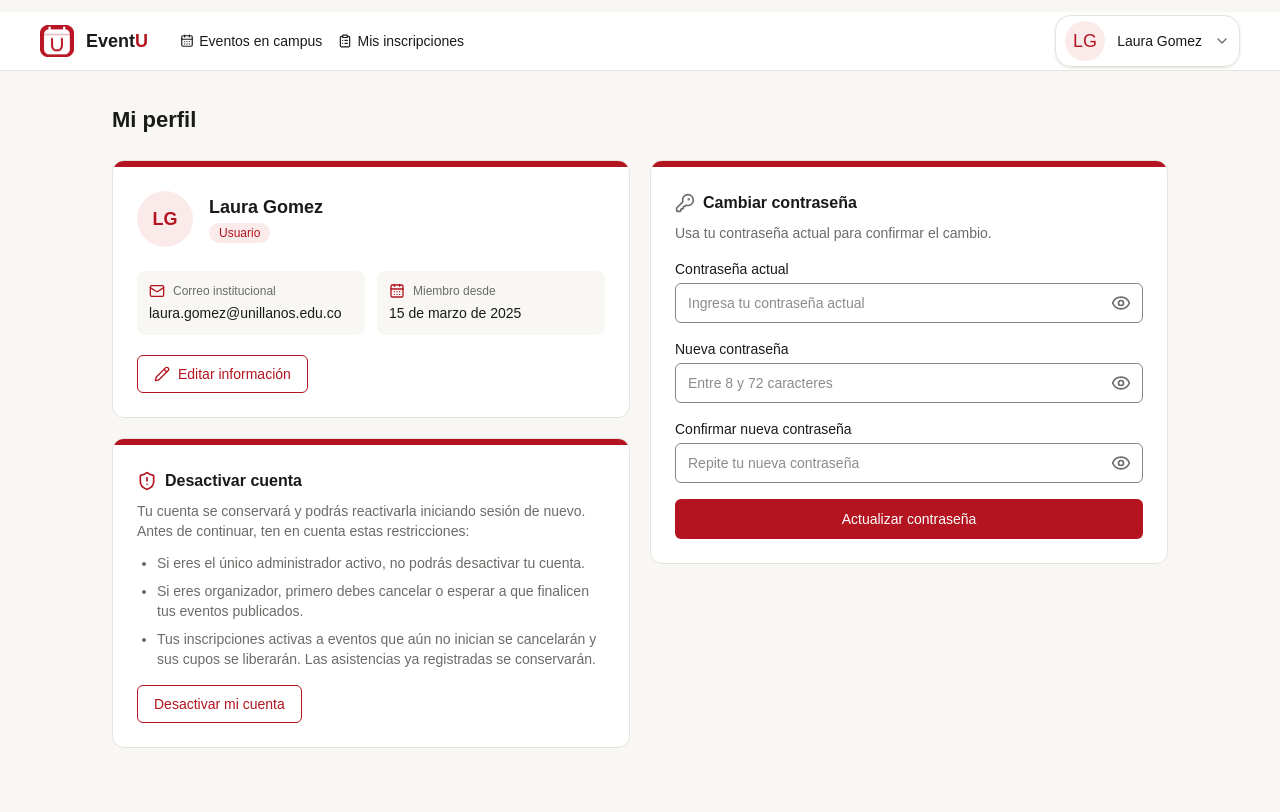
Scenario: Perfil › actualiza el nombre conservando el código institucional y sincroniza la sesión visible
This screenshot has width=1280, height=812.
Click the button "Editar información": click(222, 374) [137,355,308,393]
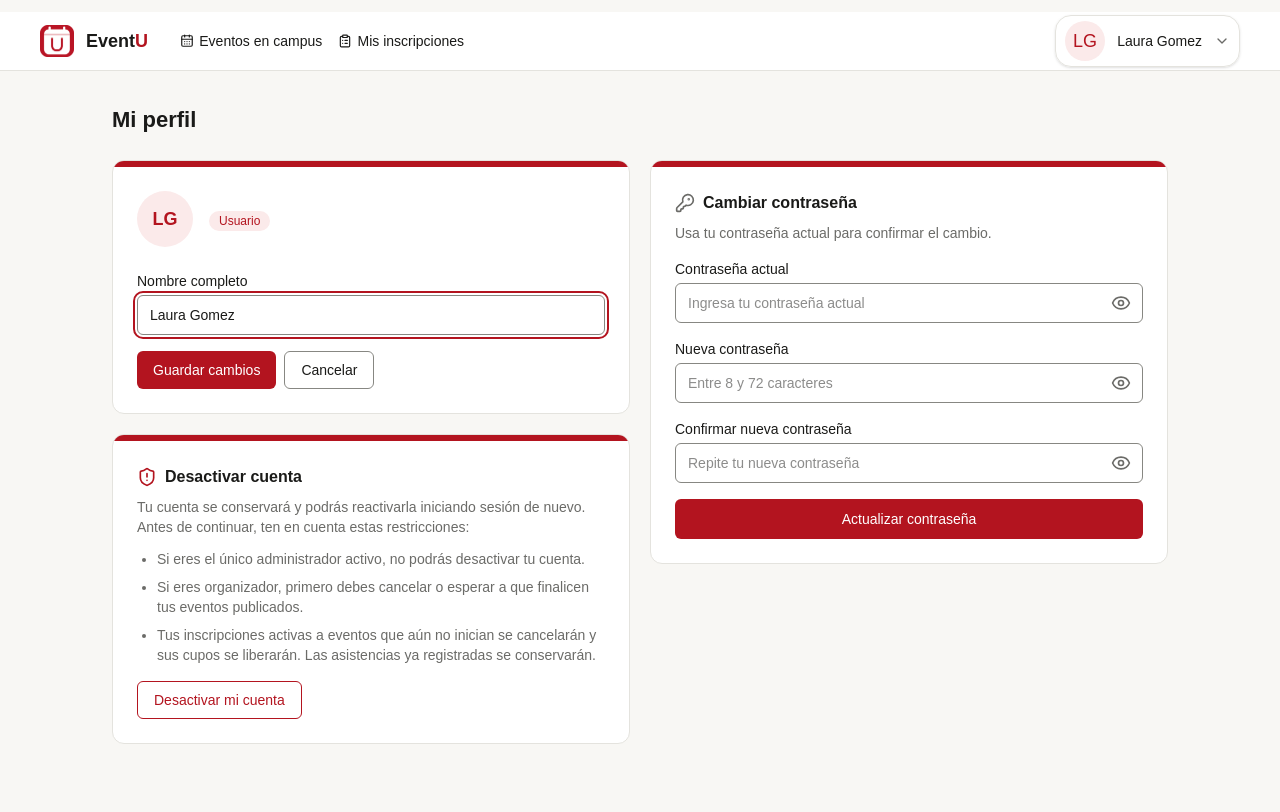
Replace the text in the field labelled "Nombre completo" with "  Laura Gomez Ruiz  ": (371, 315) [137,295,605,335]
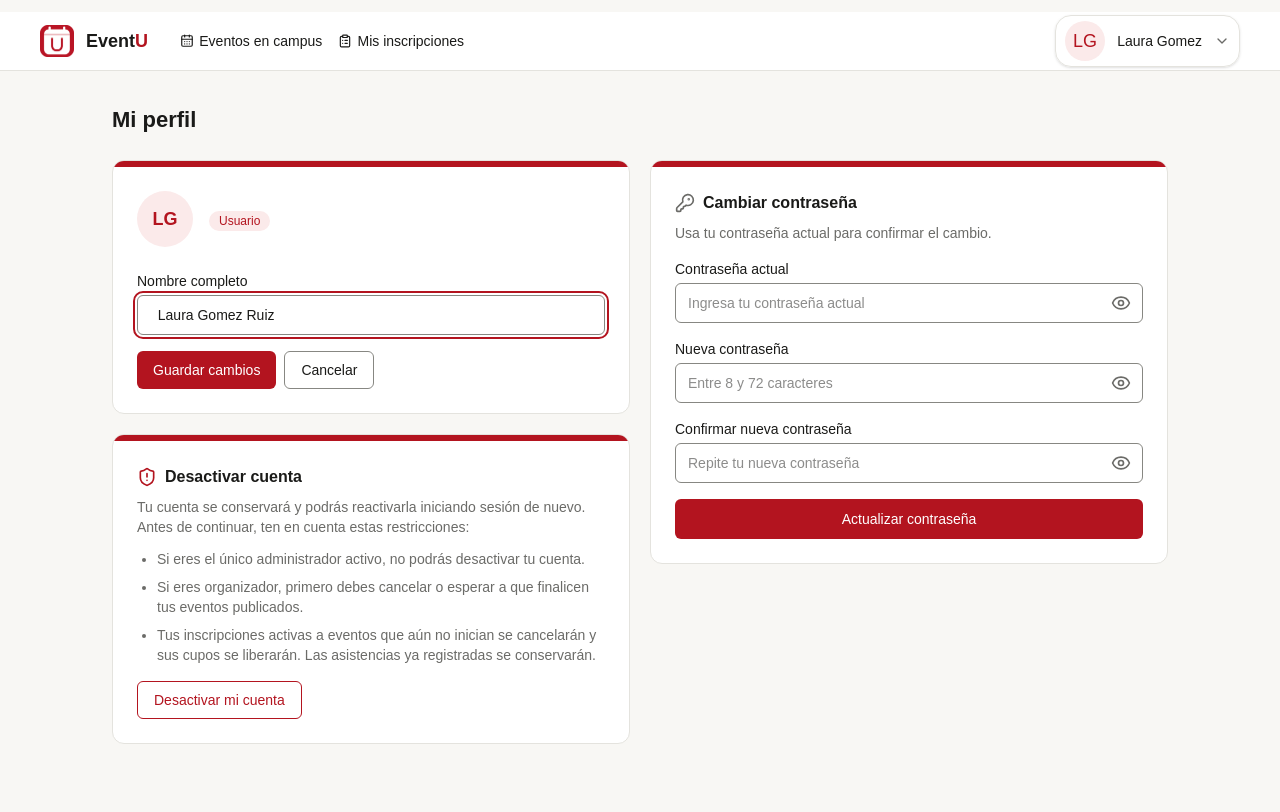
Click the button "Guardar cambios": click(207, 370) [137,351,276,389]
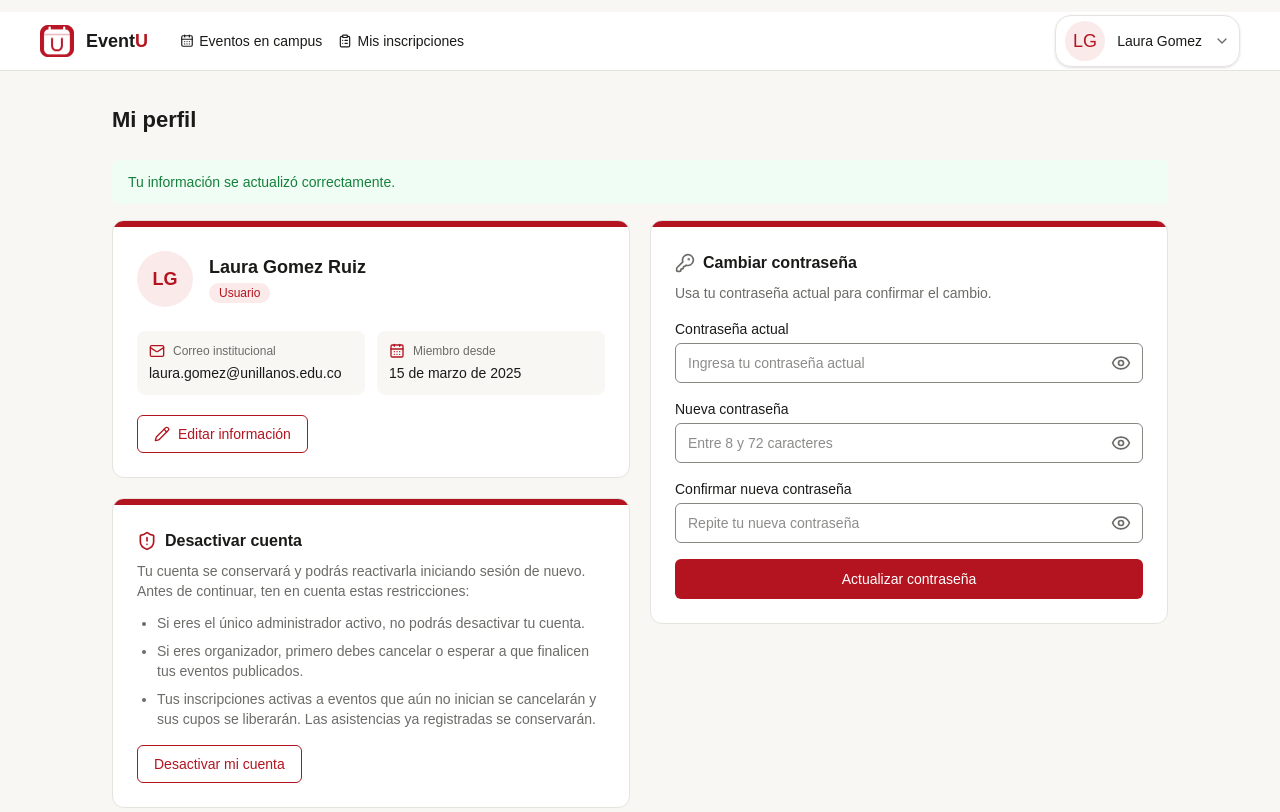
Expected: the button with aria-label "Menú de perfil de Laura Gomez" is shown, [1055,15,1240,67]
Expected: the message reads "Tu información se actualizó correctamente.", [128,174,395,190]
Expected: the heading "Laura Gomez Ruiz" is shown, [209,256,366,279]
